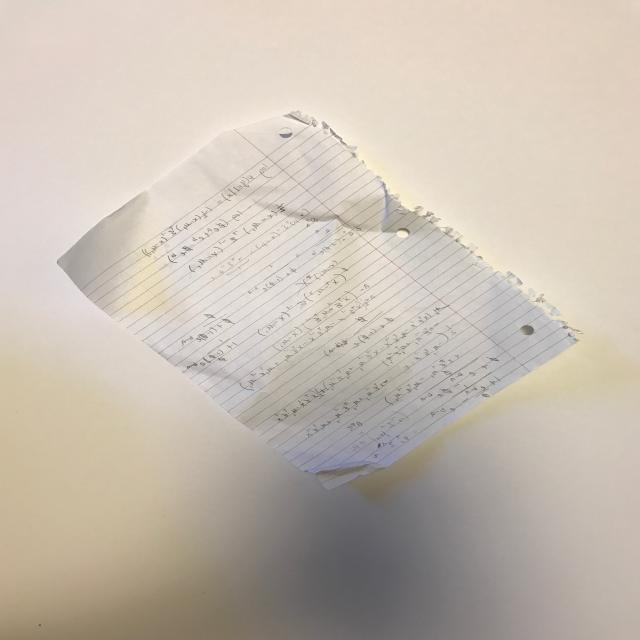paper: (33, 97, 595, 507)
